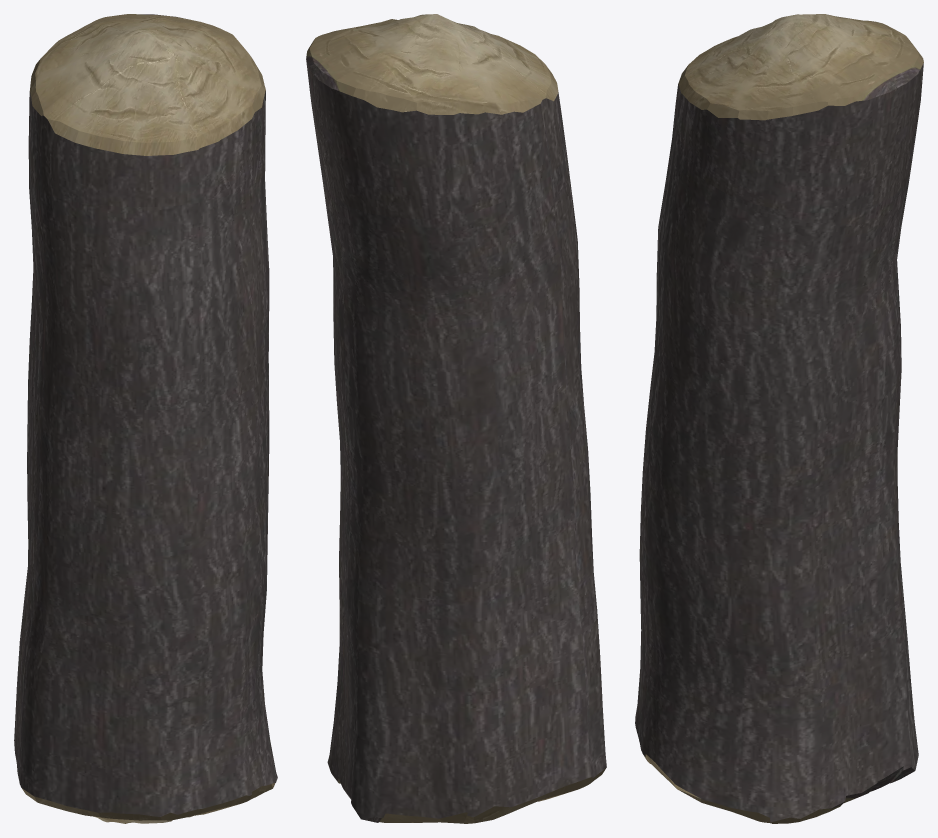
3 renders of one model, left to right at view 1: azimuth 30°, elevation 25°; view 2: azimuth 150°, elevation 25°; view 3: azimuth 270°, elevation 25°, orthographic. The views are drawn at different scales.
Parts seen in each view (by area): view 1: SM_BM_Oak_Tree_01_quarter_01_LOD0; view 2: SM_BM_Oak_Tree_01_quarter_01_LOD0; view 3: SM_BM_Oak_Tree_01_quarter_01_LOD0.
Part boxes in pixels (x1,y1,x2,y2): SM_BM_Oak_Tree_01_quarter_01_LOD0: (14, 14, 277, 823); SM_BM_Oak_Tree_01_quarter_01_LOD0: (306, 14, 606, 823); SM_BM_Oak_Tree_01_quarter_01_LOD0: (635, 14, 923, 823).
Bounding box in the file's own units: 0.9167 × 2.79 × 0.9269.
1 material, 1 textured.
